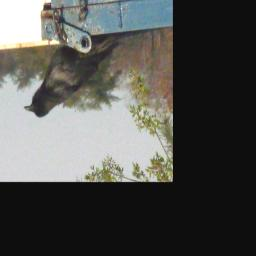Crow: (23, 36, 119, 119)
